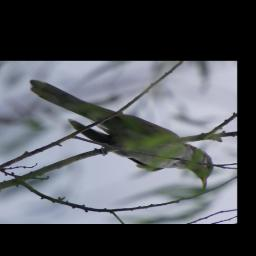Cuckoo: (27, 73, 215, 189)
